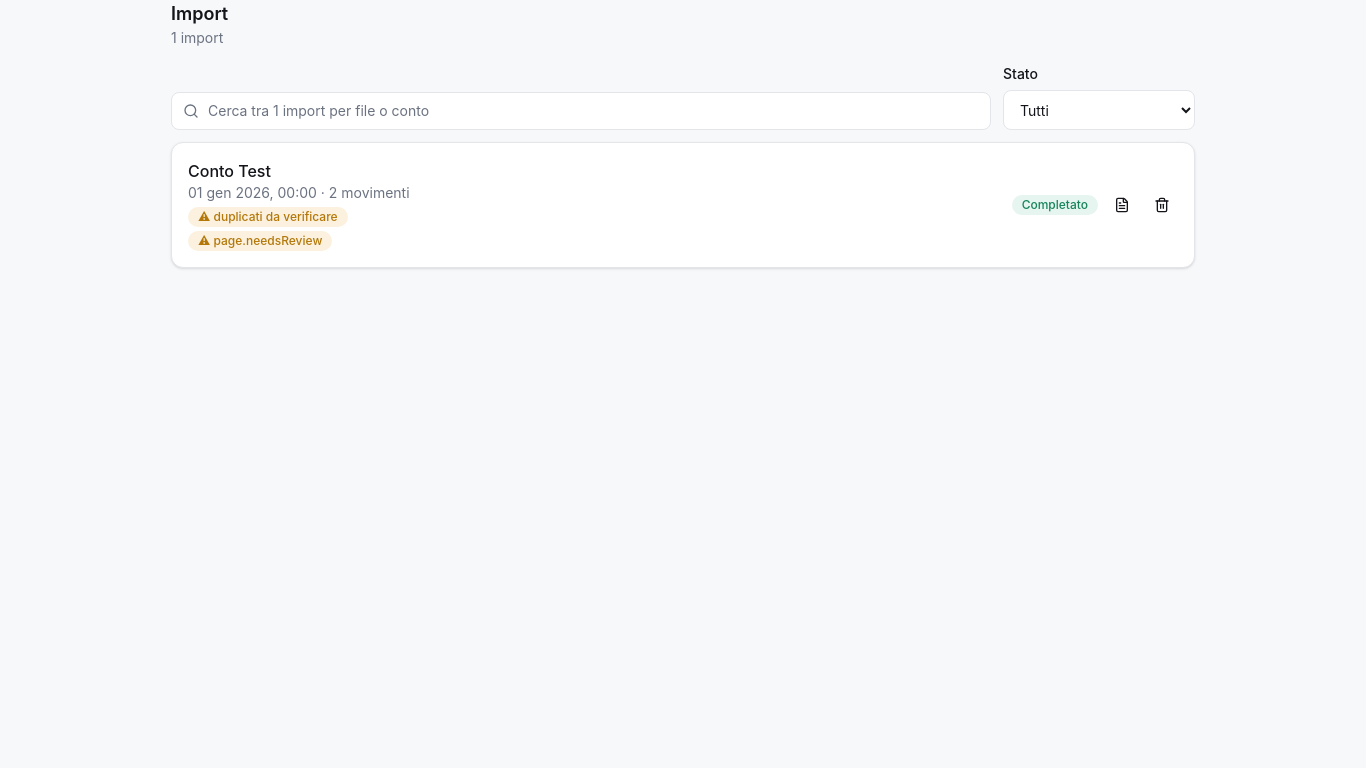
Test: ImportsPage — elimina import › il dialog di conferma mostra il conteggio reale delle transazioni
Click the button named "Elimina import" at (1162, 205), box [1146,189,1178,221]
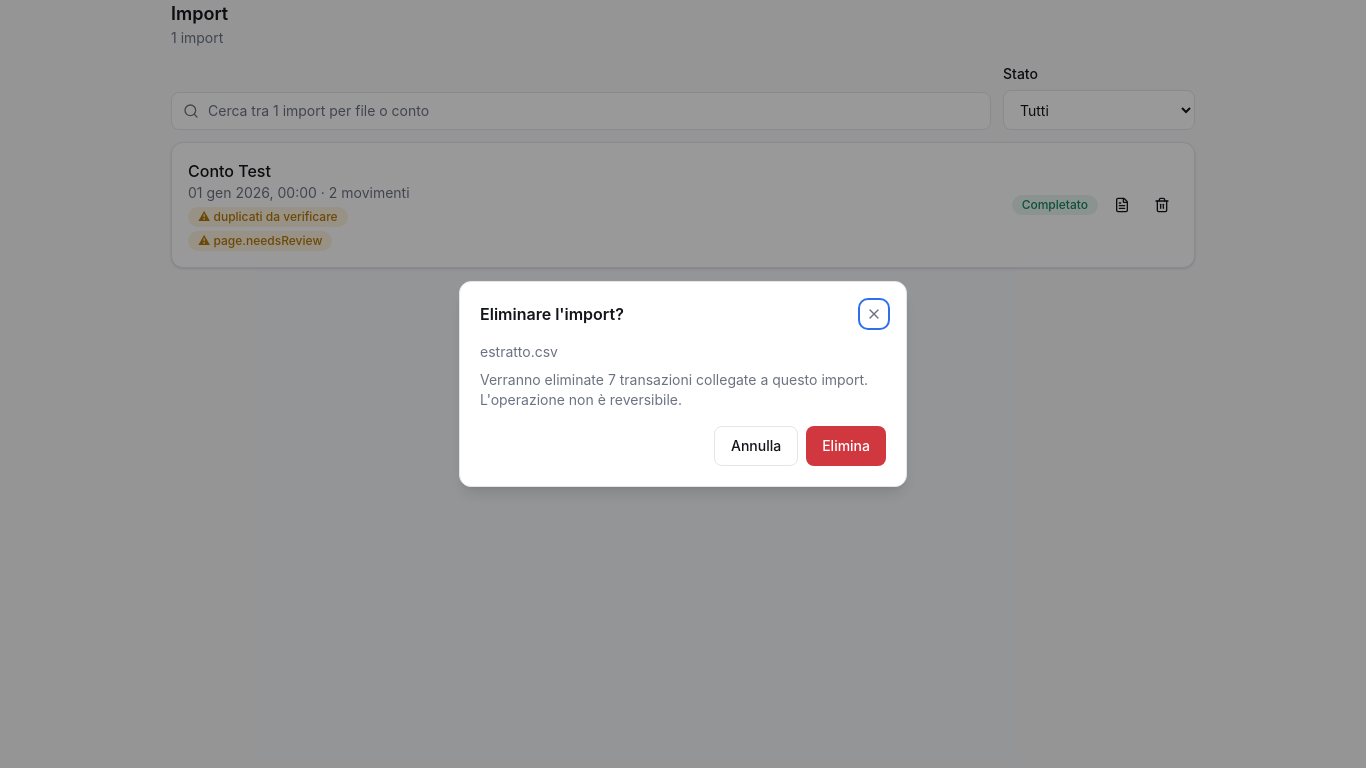
Now the text "Verranno eliminate 7 transazioni" is shown, box [480,371,868,388]
